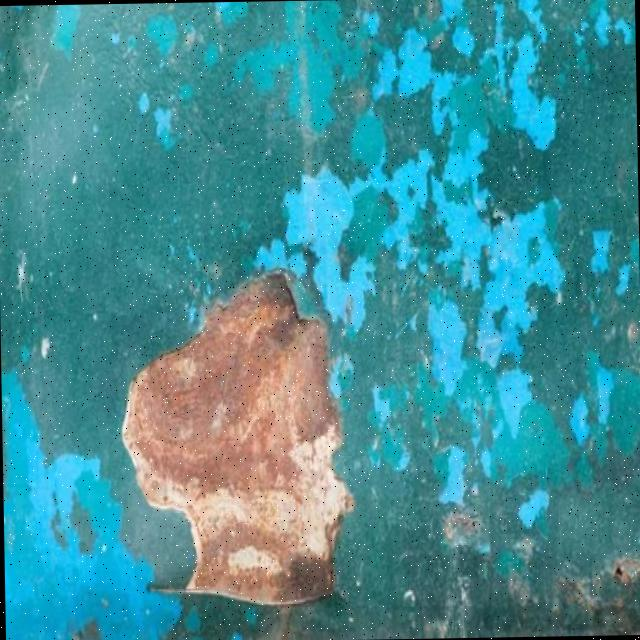Corrosion: (117, 266, 356, 608)
